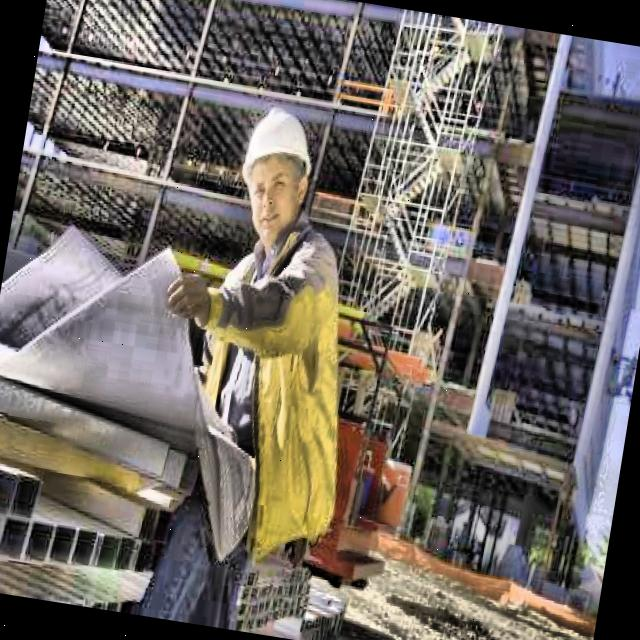helmet: (224, 90, 330, 258)
